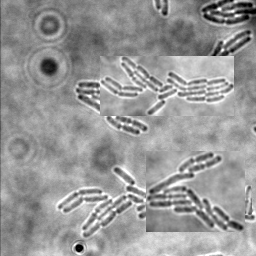Dividing: (241, 185, 252, 215)
Microcolony: (57, 167, 216, 238), (100, 56, 234, 116), (146, 151, 245, 232), (204, 30, 251, 72), (200, 1, 255, 26)
